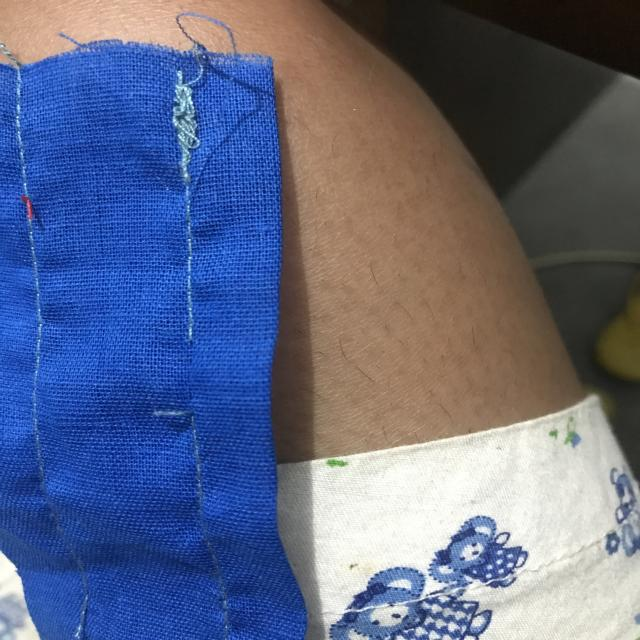broken: (134, 325, 224, 435)
